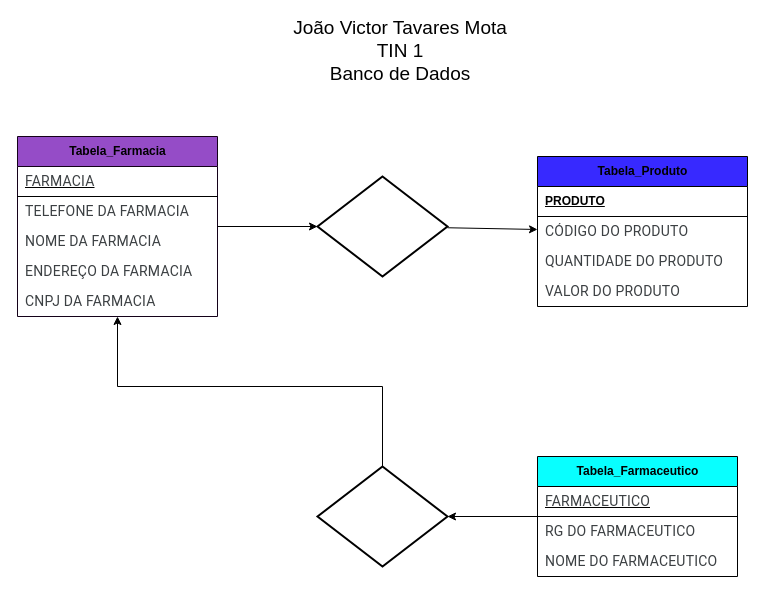
Image size: 765x594. Some labels were removed from this diagram. Here are the shapes that lost their labels. From the top down, the centre of each, then its label:
At [382,226]: "Vende".
At [382,516]: "Trabalho".
